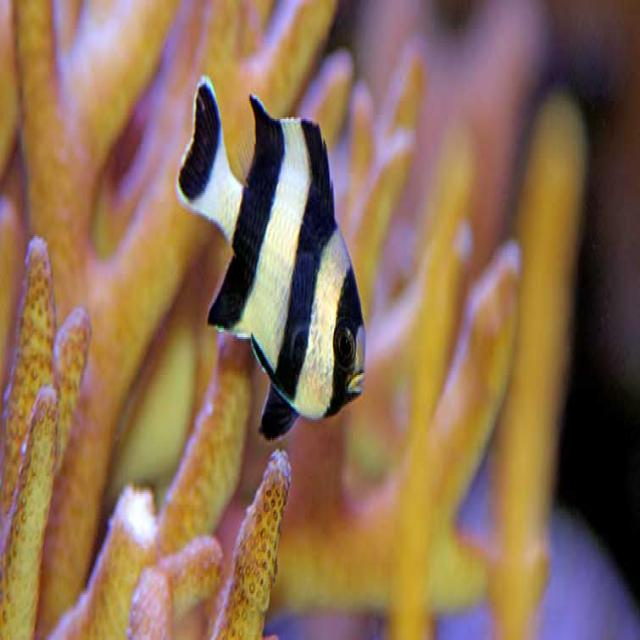ThreeStripedDamselfish: (177, 76, 365, 440)
